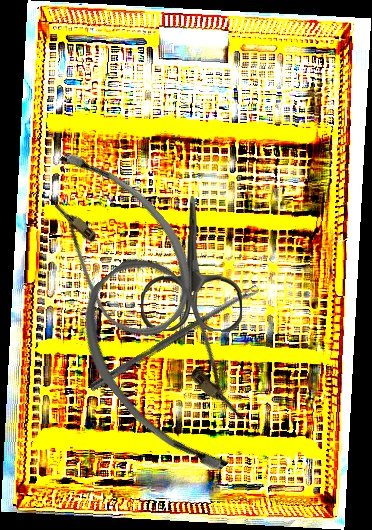Cannula: (53, 241, 290, 491), (6, 133, 220, 354)
Iris Scissors: (140, 195, 245, 332)
Surgical Spoon: (88, 284, 261, 393)
